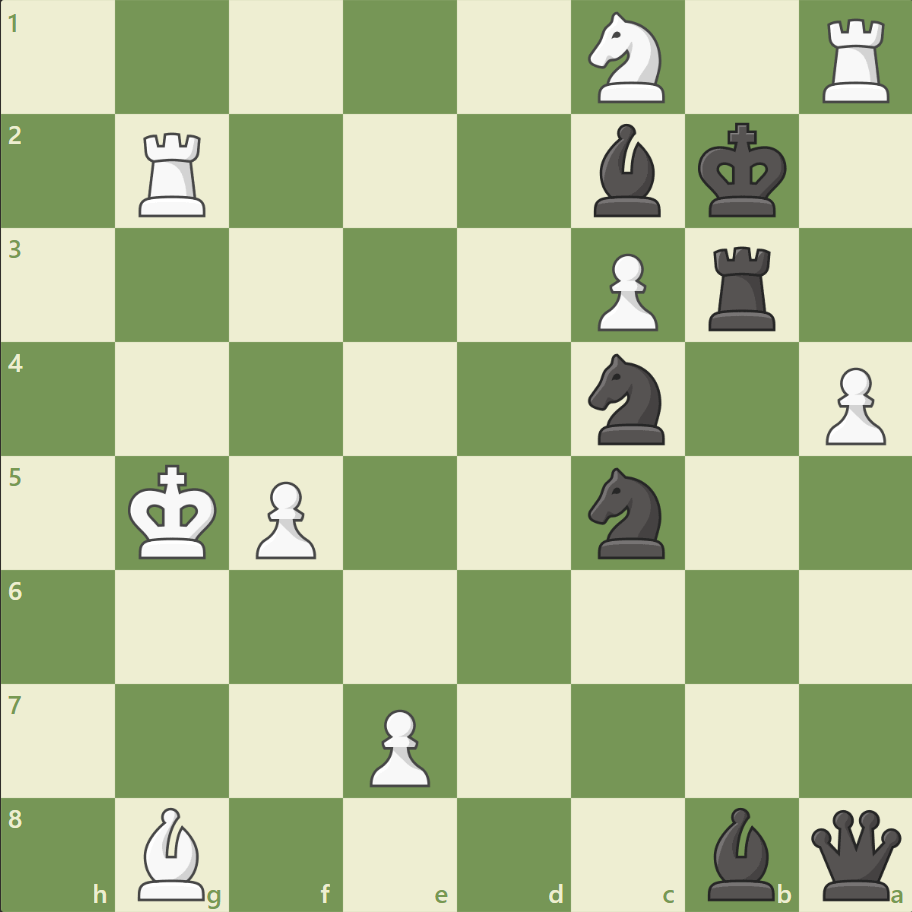B: (131, 801, 215, 904)
K: (124, 458, 224, 566)
N: (579, 7, 676, 110)
P: (247, 473, 322, 564), (361, 700, 435, 791), (815, 359, 889, 450), (588, 246, 662, 337)
R: (814, 12, 897, 109), (133, 125, 215, 222)
b: (698, 801, 782, 904), (585, 120, 669, 222)
k: (692, 117, 792, 225)
n: (579, 461, 676, 564), (579, 348, 676, 450)
q: (805, 804, 904, 903)
r: (700, 239, 783, 336)
